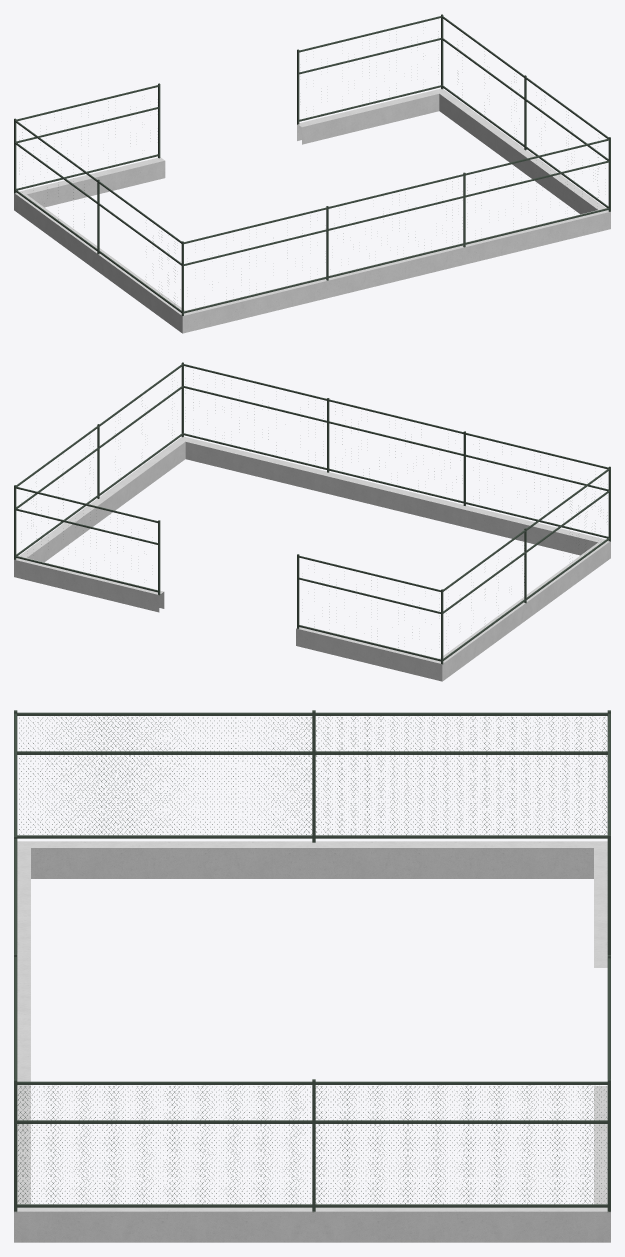
Rendered from fence.dae.
The picture shows the model from 3 angles, top to bottom: view 1: azimuth 30°, elevation 25°; view 2: azimuth 150°, elevation 25°; view 3: azimuth 270°, elevation 25°; orthographic projection. The views are drawn at different scales.
Parts seen in each view (by area): view 1: fence; view 2: fence; view 3: fence.
Boxes of the visible parts, x1,y1,x2,y2 form: fence: (14, 14, 610, 333); fence: (14, 362, 610, 681); fence: (14, 710, 610, 1242).
Bounding box in the file's own units: 12.45 × 2.54 × 8.49.
